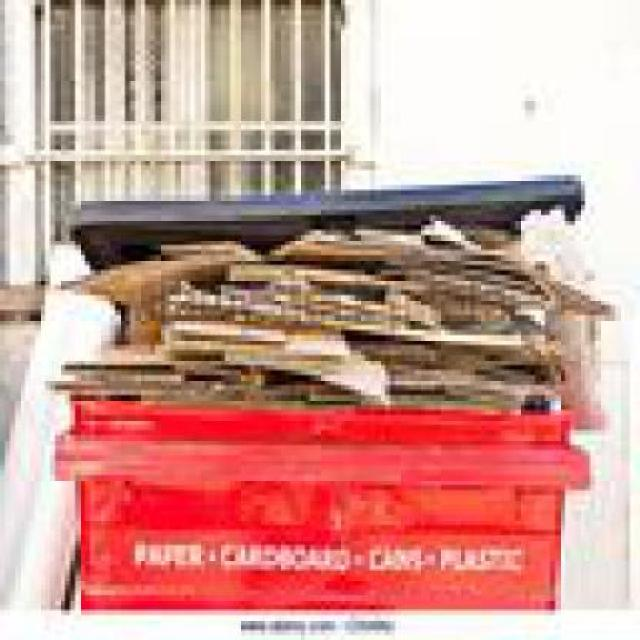CARDBOARD: (275, 215, 610, 310), (514, 206, 606, 426), (160, 254, 425, 314), (55, 234, 250, 306), (350, 320, 555, 365), (45, 335, 250, 380), (224, 335, 384, 390), (160, 316, 345, 356), (385, 360, 560, 400), (156, 309, 276, 340), (115, 304, 150, 336)
